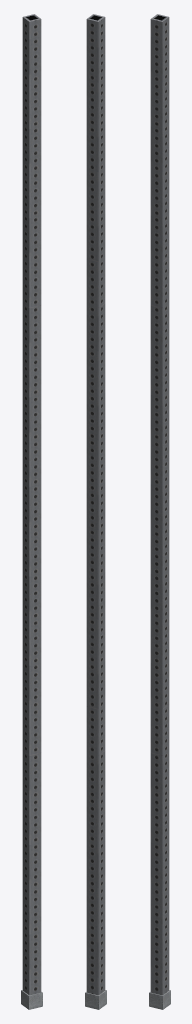
The model's file is SignPost_10ft.fbx.
3 views of the same model, side by side, from view 1: azimuth 30°, elevation 25°; view 2: azimuth 150°, elevation 25°; view 3: azimuth 330°, elevation 25° (orthographic).
Parts seen in each view (by area): view 1: sign_post_10_mesh; view 2: sign_post_10_mesh; view 3: sign_post_10_mesh.
Boxes of the visible parts, bbox=[...] form: sign_post_10_mesh: bbox=[21, 14, 42, 1009]; sign_post_10_mesh: bbox=[85, 14, 106, 1009]; sign_post_10_mesh: bbox=[149, 14, 170, 1009].
Bounding box in the file's own units: 4.5 × 4.5 × 305.
1 material, 1 textured.
